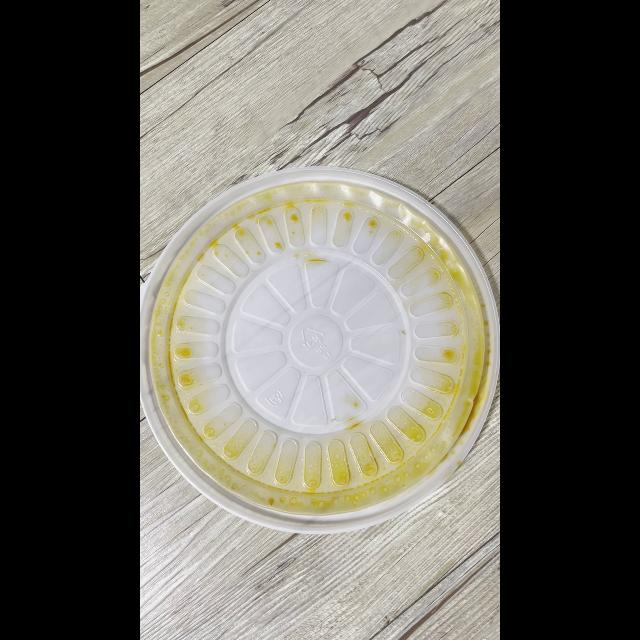dirty: (150, 172, 500, 526)
